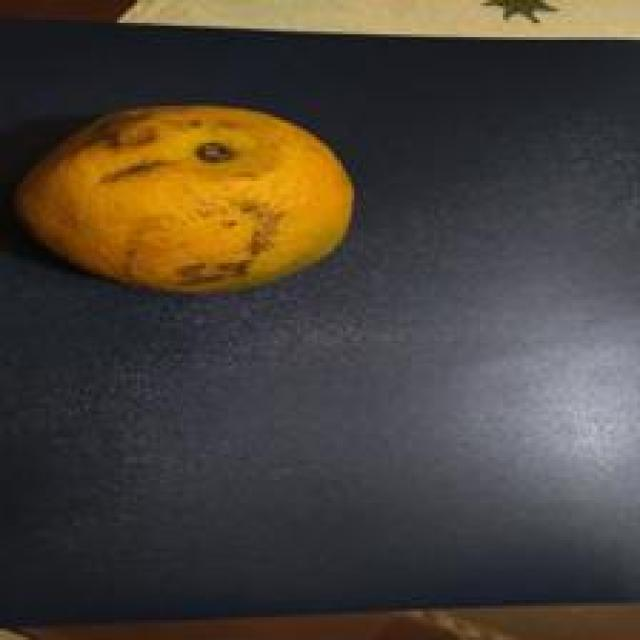overripe: (14, 87, 361, 300)
